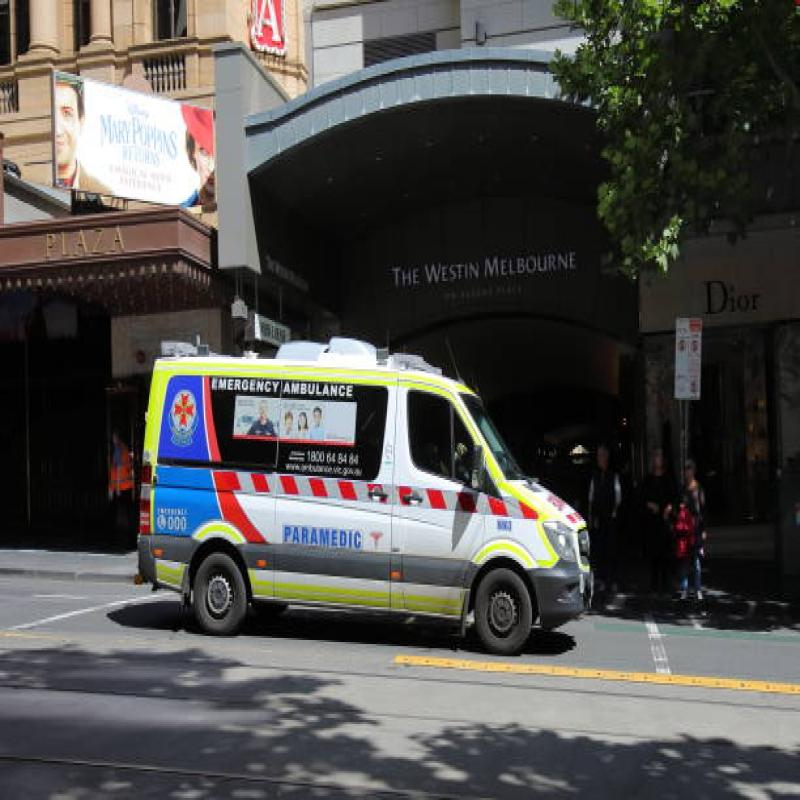ambulance: (112, 325, 600, 674)
